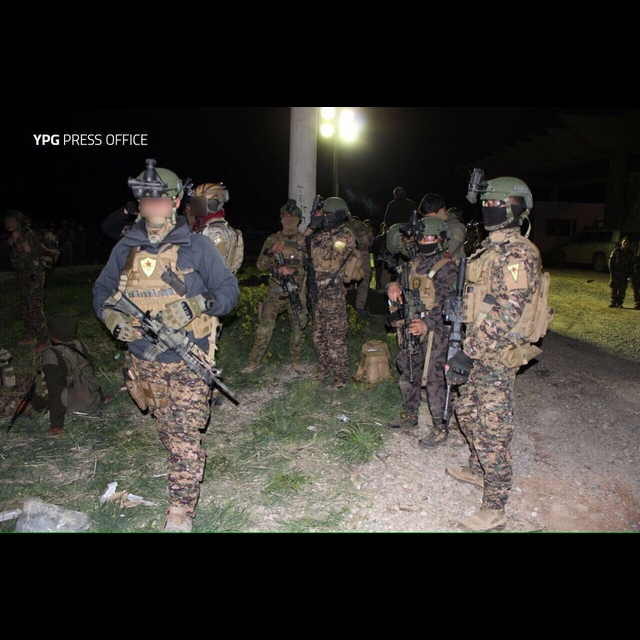YPG: (138, 256, 158, 279), (507, 261, 524, 284)
